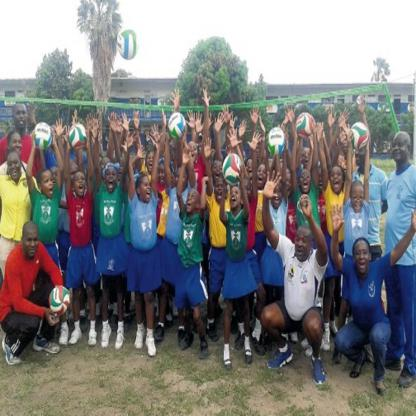face: (355, 244, 370, 273), (297, 229, 309, 261), (25, 230, 39, 256), (393, 135, 407, 161), (141, 173, 151, 202), (8, 156, 20, 180), (42, 174, 54, 198), (16, 106, 27, 130), (333, 166, 343, 192), (354, 187, 364, 212), (302, 170, 312, 194), (176, 169, 187, 190), (356, 142, 366, 165), (230, 188, 240, 210), (316, 169, 326, 191), (273, 182, 282, 206), (342, 129, 351, 153), (284, 173, 293, 196), (303, 146, 312, 169), (76, 176, 86, 196), (187, 191, 196, 213), (70, 164, 79, 185), (108, 168, 116, 191), (119, 158, 127, 180), (217, 179, 225, 201), (258, 165, 266, 187), (13, 135, 22, 154), (50, 168, 59, 187), (158, 162, 167, 181), (189, 145, 198, 164), (214, 161, 223, 180), (242, 180, 252, 197), (102, 159, 111, 175), (247, 159, 254, 178), (148, 152, 155, 170)
